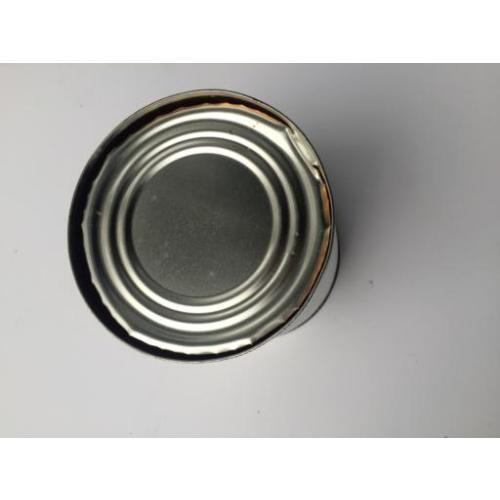metal: (68, 90, 340, 355)
